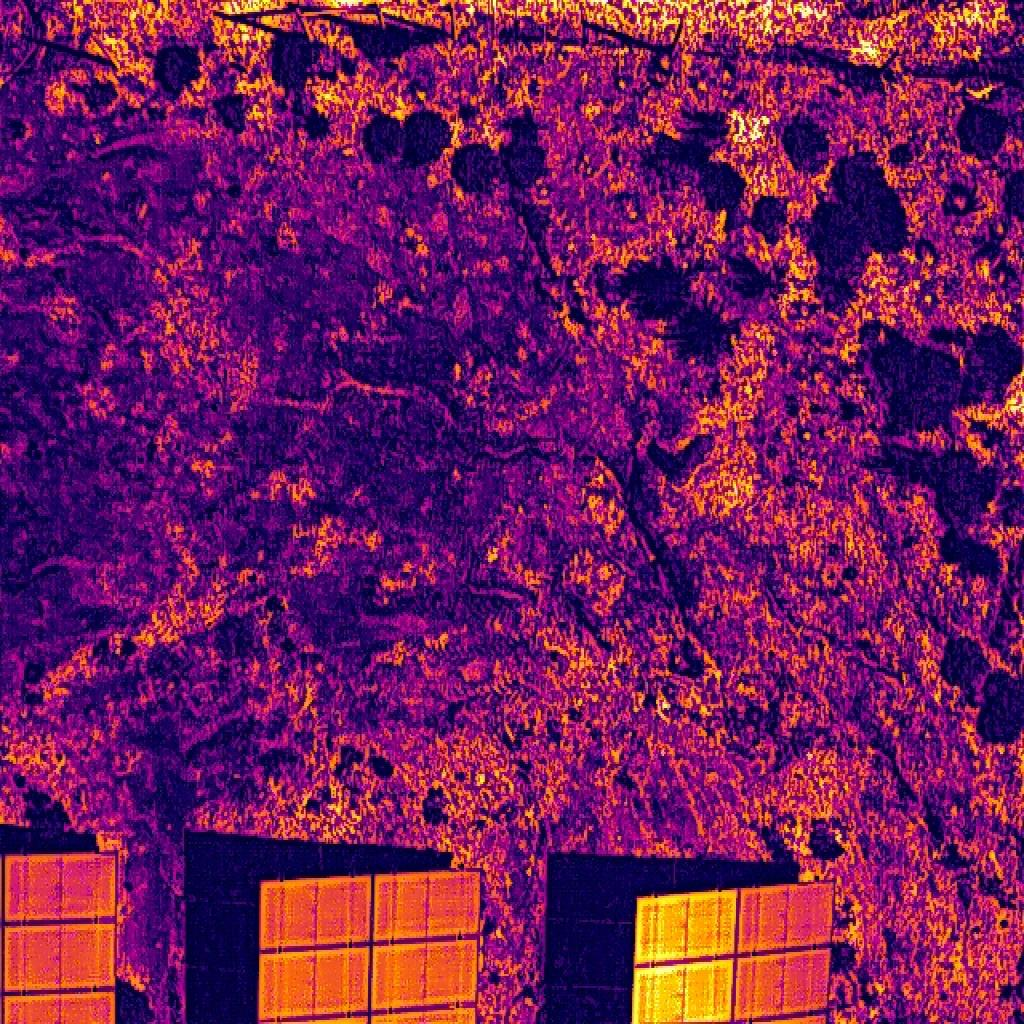panel: (636, 891, 737, 967), (739, 880, 834, 956)
